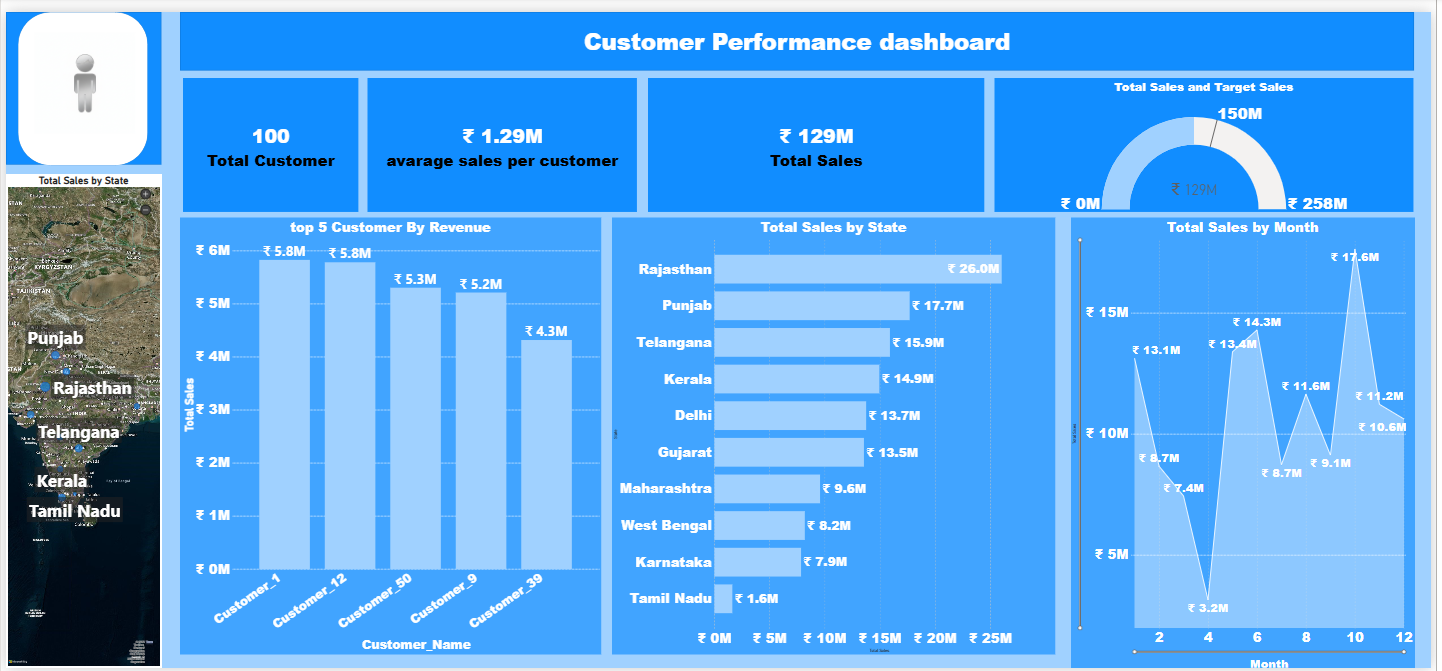

Layout of this report page (visuals, bound fields, positions):
{"tool":"powerbi","page":{"name":"Customer","canvas":[5000,2300],"ordinal":2},"visuals":[{"type":"shape","box":[610,0,4330,205],"z":0},{"type":"shape","box":[0,0,545,535],"z":1000},{"type":"shape","box":[0,570,545,1730],"z":2000},{"type":"card","fields":{"Values":["Measure.Total Customer"]},"box":[620,230,615,470],"z":3000},{"type":"card","fields":{"Values":["Measure.avarage sales per customer"]},"box":[1270,230,945,470],"z":4000},{"type":"columnChart","title":"top 5 Customer By Revenue","fields":{"Category":["Customers.Customer_Name"],"Y":["Measure.Total Sales"]},"box":[611.1,722.2,1477.8,1533.3],"z":5000},{"type":"clusteredBarChart","fields":{"Y":["Measure.Total Sales"],"Category":["Customers.State"]},"box":[2127.8,722.2,1555.6,1533.3],"z":6000},{"type":"map","fields":{"Size":["Measure.Total Sales"],"Category":["Customers.State"]},"box":[0,570,545,1730],"z":7000},{"type":"lineChart","fields":{"Category":["Calendar.Month"],"Y":["Measure.Total Sales"]},"box":[3735,720,1205,1580],"z":8000},{"type":"shape","box":[44.4,0,455.6,538.9],"z":9000},{"type":"image","box":[95,0,365,500],"z":13000},{"type":"card","fields":{"Values":["Measure.Total Sales"]},"box":[2250,230,1180,470],"z":15000},{"type":"gauge","fields":{"Y":["Measure.Total Sales"],"TargetValue":["Measure.Target Sales"]},"box":[3470,230,1470,470],"z":16000}]}

Visuals, with their boxes in screenshot pixels (x1, y1, x2, y2), scaled from the page's 5000x2300 canvas onto the 1442x671 screenshot:
shape: 176, 0, 1425, 60
shape: 0, 0, 157, 156
shape: 0, 166, 157, 670
card - Measure.Total Customer: 179, 67, 356, 204
card - Measure.avarage sales per customer: 366, 67, 639, 204
"top 5 Customer By Revenue" columnChart: 176, 211, 602, 658
clusteredBarChart - Measure.Total Sales x Customers.State: 614, 211, 1062, 658
map - Measure.Total Sales x Customers.State: 0, 166, 157, 670
lineChart - Calendar.Month x Measure.Total Sales: 1077, 210, 1425, 670
shape: 13, 0, 144, 157
image: 27, 0, 133, 146
card - Measure.Total Sales: 649, 67, 989, 204
gauge - Measure.Total Sales x Measure.Target Sales: 1001, 67, 1425, 204
